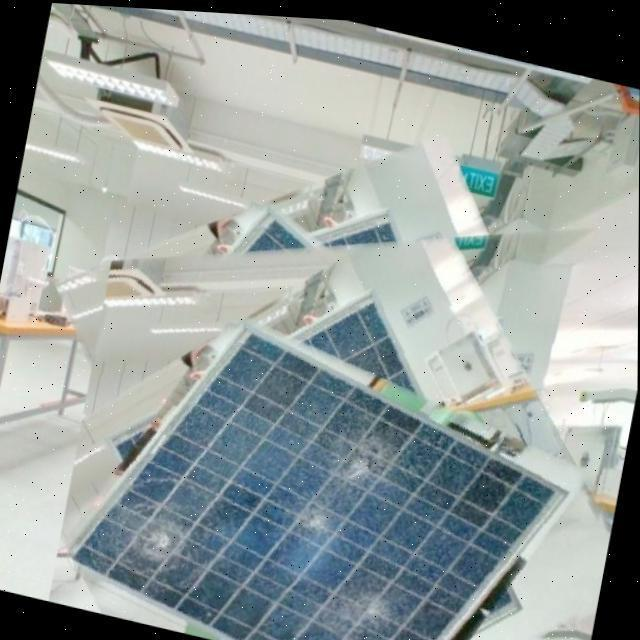Anomaly Solar Panel: (66, 325, 560, 640)
Structural Damage: (262, 396, 412, 569), (87, 458, 231, 605), (316, 558, 430, 640)
